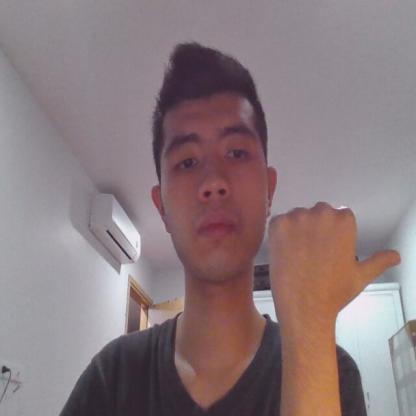left: (268, 203, 403, 320)
